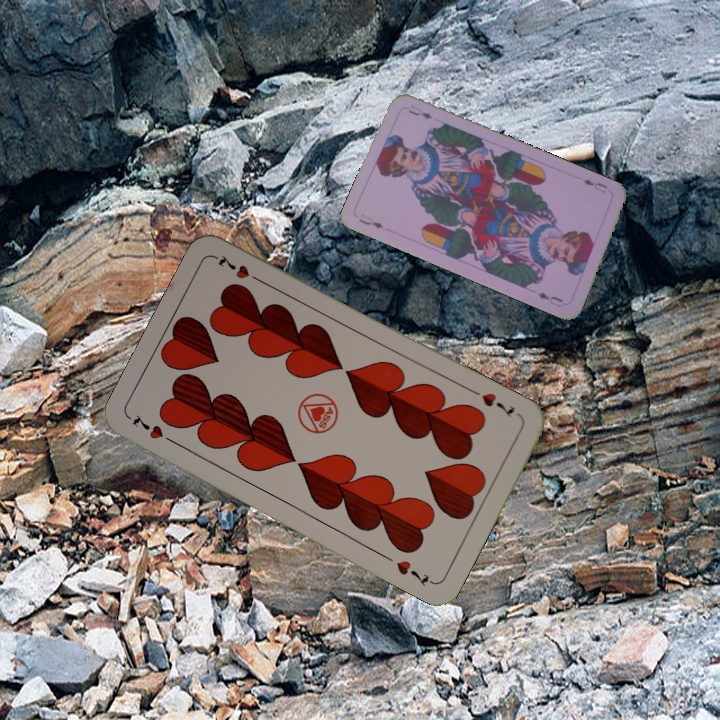EU: (579, 174, 610, 196), (355, 210, 386, 231)
H7: (128, 411, 180, 448), (478, 388, 518, 420)
